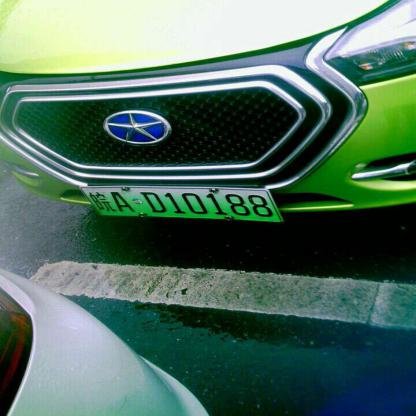lp: (80, 186, 284, 219)
